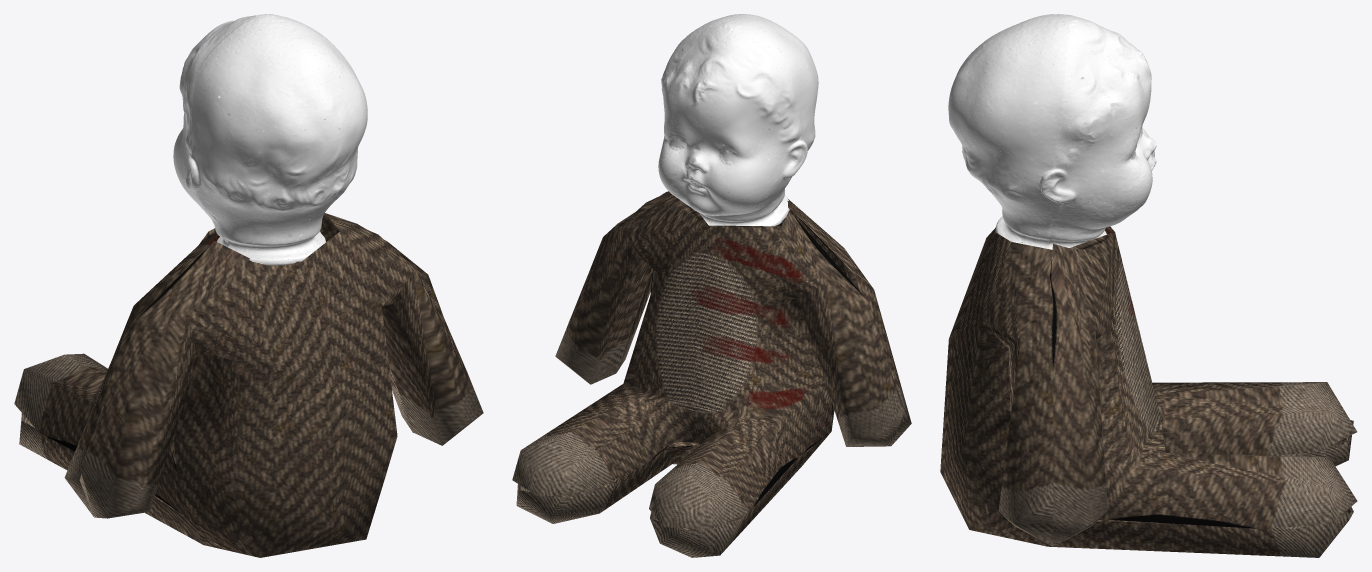
Rendered from DollPilar.glb.
The picture shows the model from 3 angles, left to right: view 1: azimuth 30°, elevation 25°; view 2: azimuth 150°, elevation 25°; view 3: azimuth 270°, elevation 25°; orthographic projection. The views are drawn at different scales.
Parts seen in each view (by area): view 1: Bear_LowPoly, Object_6; view 2: Bear_LowPoly, Object_6; view 3: Bear_LowPoly, Object_6.
Part boxes in pixels (x1,y1,x2,y2): Bear_LowPoly: (14,213,483,557); Object_6: (173,14,367,265); Bear_LowPoly: (512,191,911,557); Object_6: (658,14,818,226); Bear_LowPoly: (940,226,1357,557); Object_6: (948,14,1156,258).
Bounding box in the file's own units: 1.88 × 2.39 × 1.79.
Materials: 2 (1 with a texture image).
